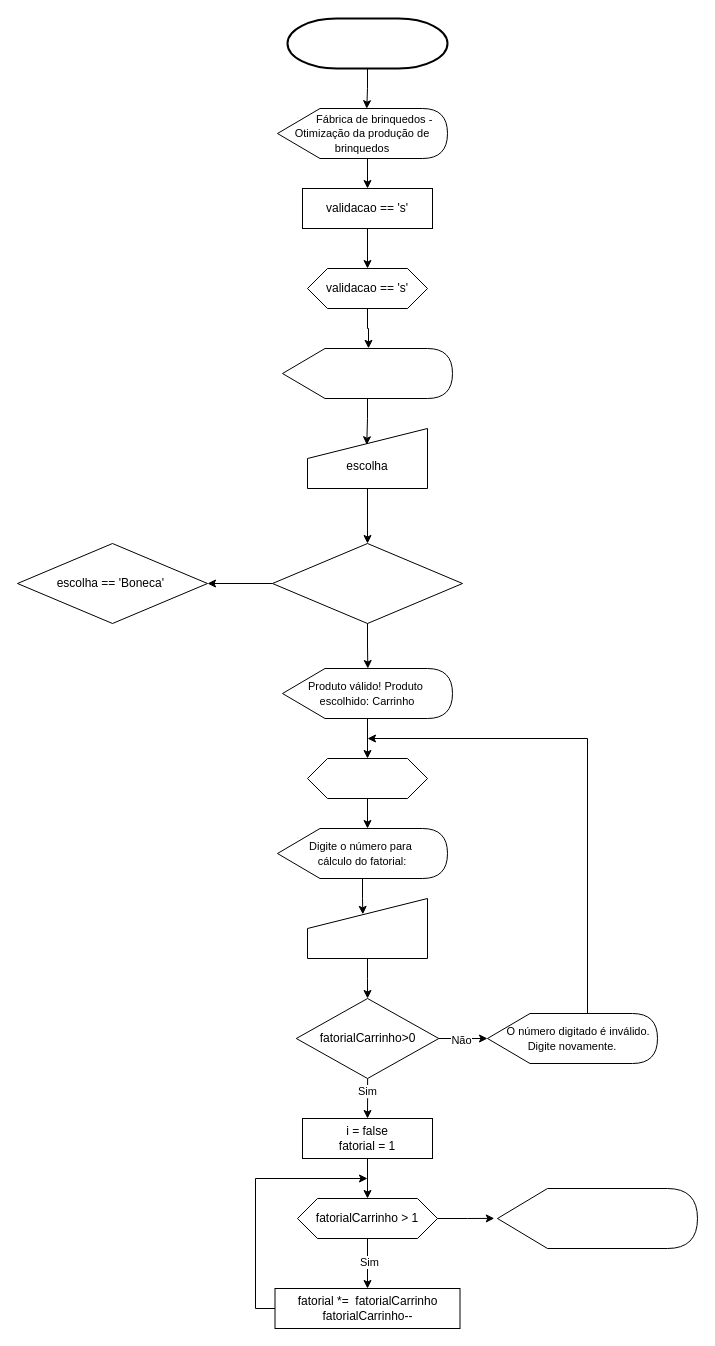
Some shapes in this 715 by 1346 pixel diagram are drawn without their labels. Each missing label, with the box of its shape:
"O número de rodas necessárias para o modelo desejado é: " + fatorial: (496, 1188, 698, 1248)
Digite o tipo de brinquedo: Carrinho / Boneca: (282, 348, 452, 398)
escolha == 'Carrinho': (272, 542, 462, 624)
fatorialCarrinho: (306, 898, 428, 958)
i == true: (306, 758, 428, 798)
Início: (286, 17, 448, 69)
